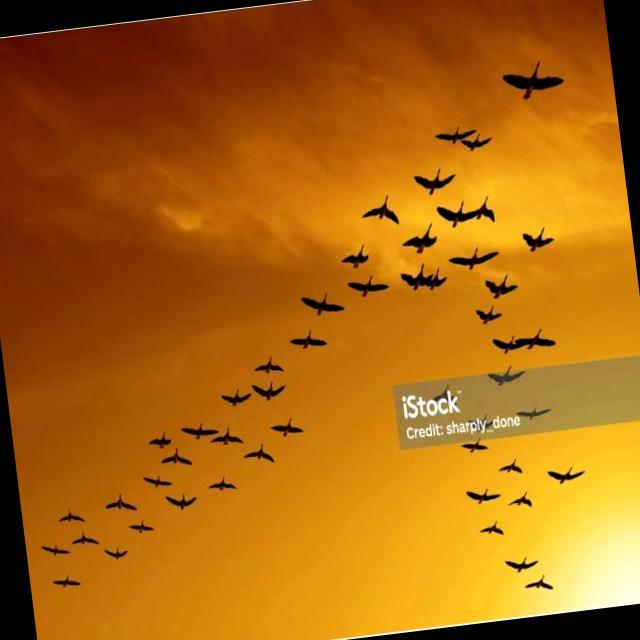bird: (498, 56, 567, 105), (409, 158, 462, 202), (516, 221, 564, 269), (299, 281, 346, 325), (446, 238, 502, 274), (354, 188, 404, 228), (342, 270, 392, 310), (267, 408, 314, 441), (238, 442, 280, 478), (520, 322, 564, 356), (431, 111, 475, 144), (393, 258, 430, 296), (338, 235, 374, 272), (400, 220, 440, 253), (547, 462, 590, 492), (464, 482, 504, 514), (100, 488, 139, 520), (482, 270, 522, 301), (520, 568, 558, 600), (482, 364, 527, 391), (466, 302, 509, 330), (476, 508, 508, 545), (138, 466, 174, 498), (437, 200, 471, 233), (288, 328, 328, 356), (250, 376, 290, 404), (468, 192, 498, 229), (48, 571, 86, 600), (40, 536, 73, 569), (487, 330, 523, 360), (460, 131, 497, 160), (179, 415, 218, 442), (50, 504, 88, 531), (457, 433, 495, 460), (504, 487, 540, 515), (514, 401, 556, 424), (218, 386, 255, 412), (161, 444, 193, 474), (126, 516, 158, 544), (248, 354, 284, 378), (159, 490, 198, 512), (206, 474, 240, 498), (209, 428, 244, 451), (500, 554, 540, 574), (144, 428, 176, 452), (102, 541, 132, 566), (428, 263, 450, 296), (72, 528, 101, 550), (497, 457, 522, 478)
